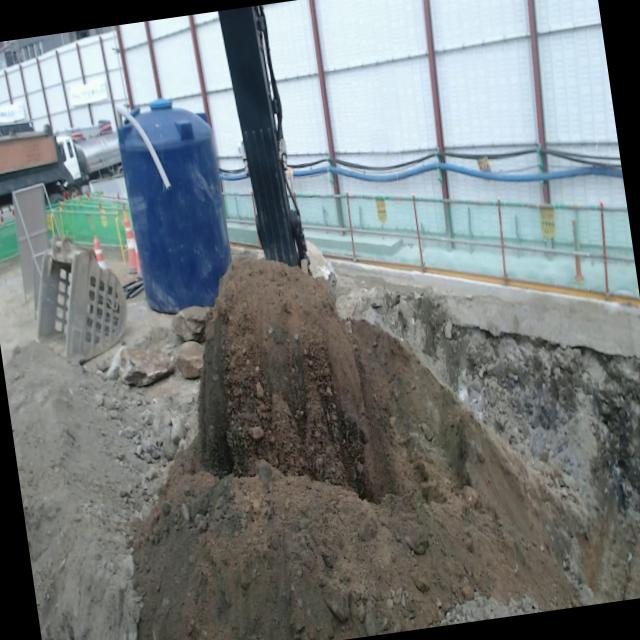cement: (333, 261, 640, 358)
sand: (4, 258, 640, 640)
stone: (121, 346, 176, 387), (173, 306, 210, 342), (306, 241, 336, 284), (176, 341, 204, 379)
